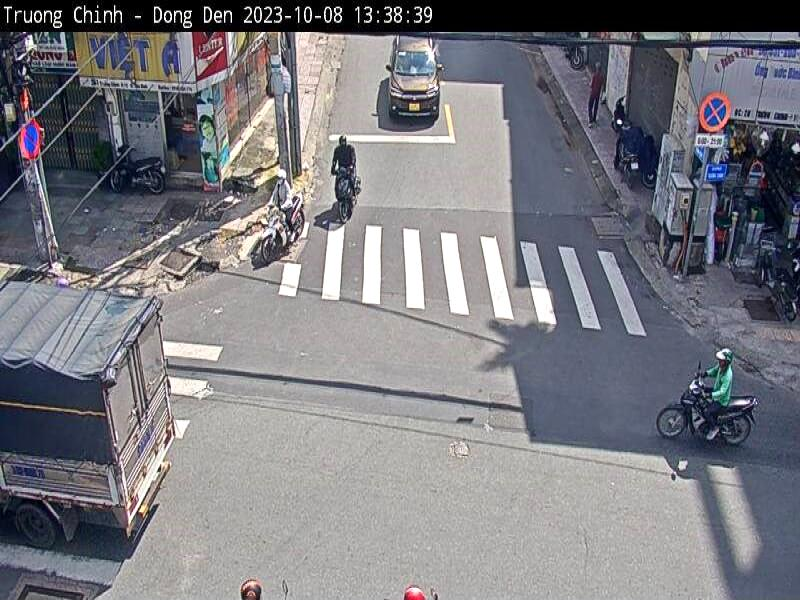car: (366, 37, 457, 128)
motorcycle: (641, 360, 773, 470), (238, 188, 326, 270), (320, 163, 364, 230)
truck: (1, 261, 183, 565)
